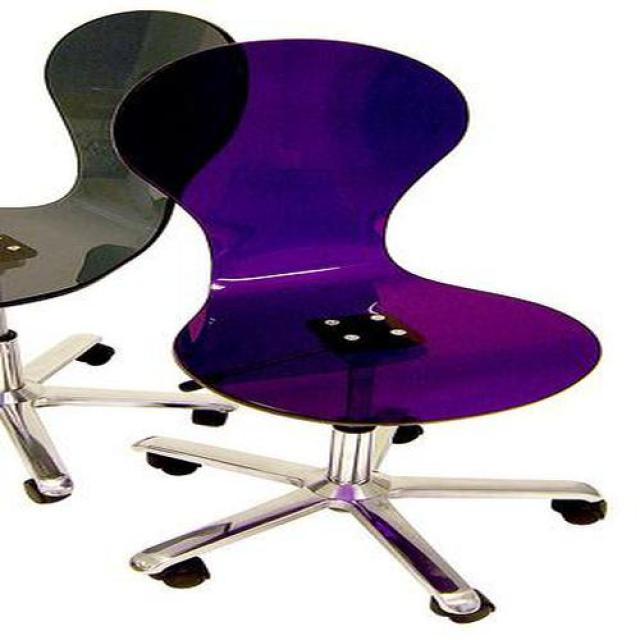swivelchair: (110, 40, 607, 626)
